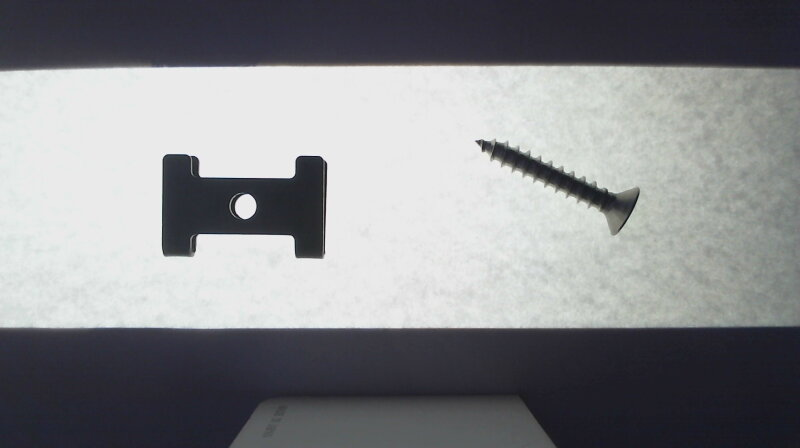O002: (162, 151, 329, 260)
S001: (474, 138, 640, 234)
